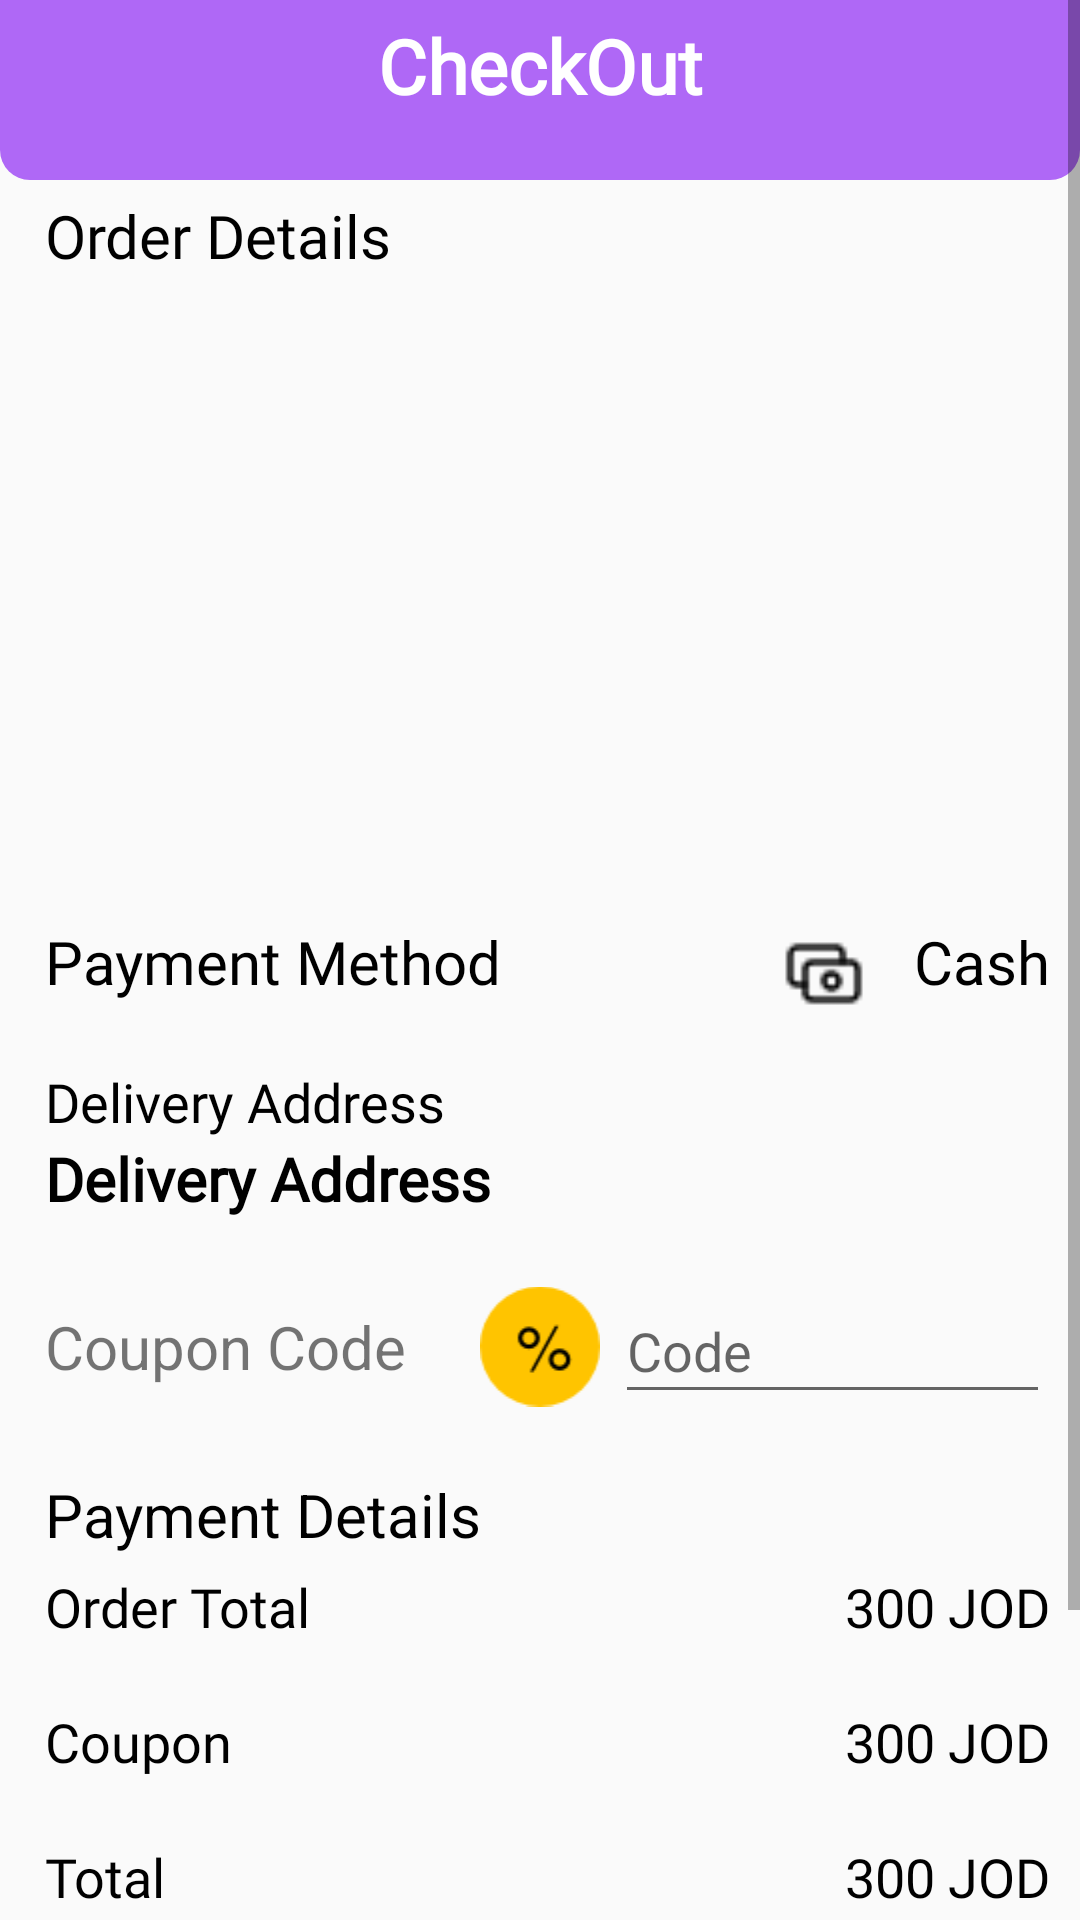

Icon bounding boxes for this 1080x1920 phone screenshot, format (x1, y1, x2, y2):
percent: (480, 1287, 600, 1407)
